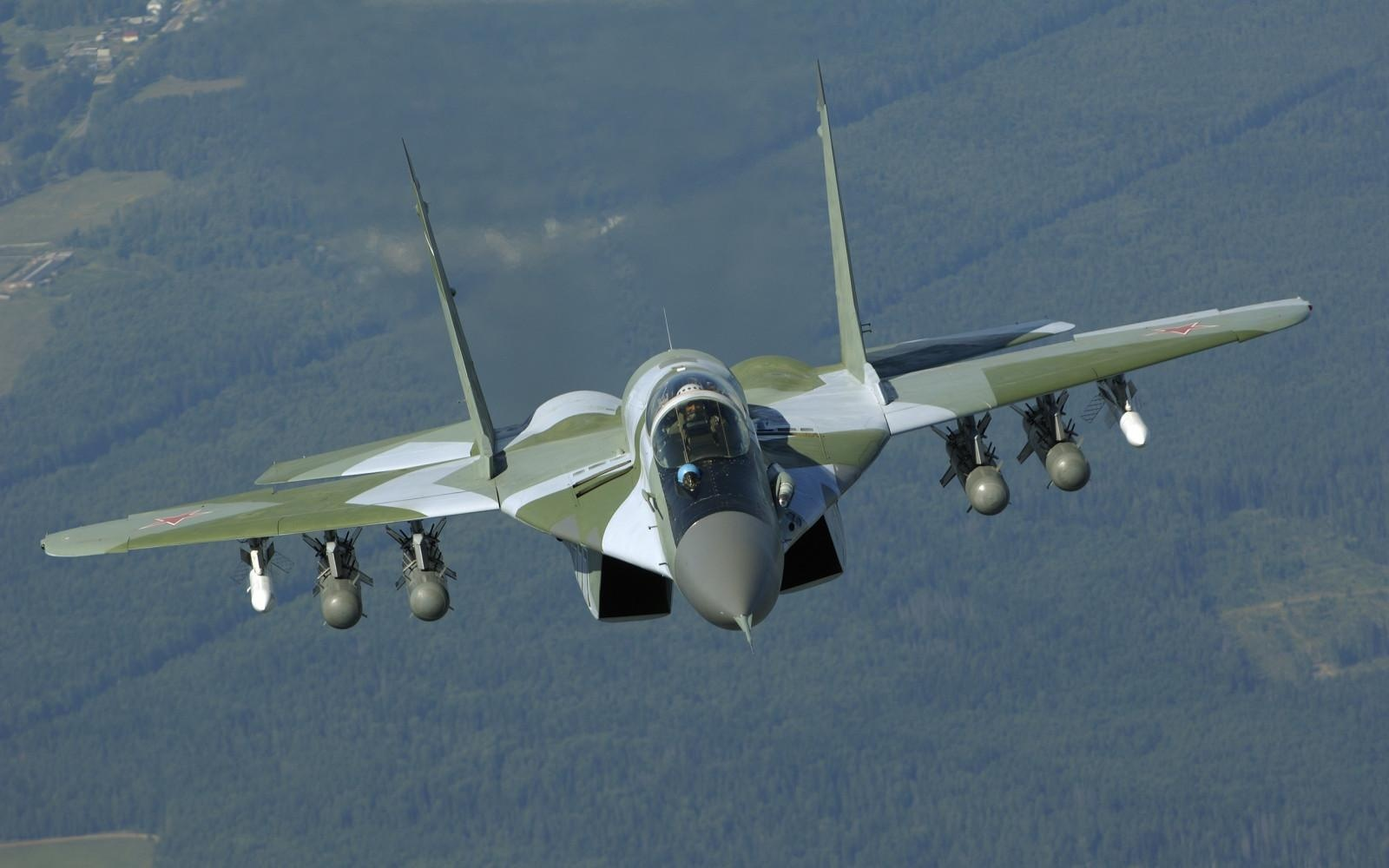aircraft: (47, 66, 1352, 645)
